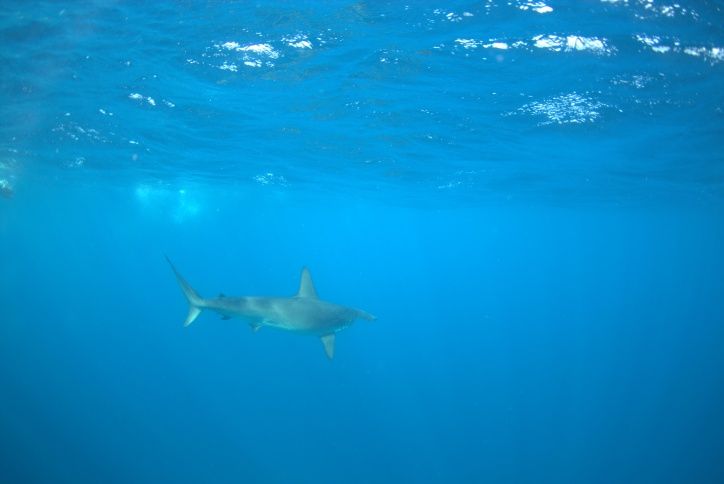Hammer: (158, 250, 401, 376), (63, 136, 223, 223)
